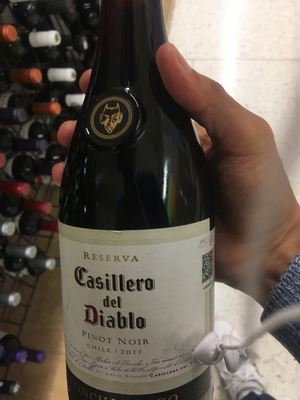casillero del diablo pinot noir: (37, 25, 225, 400)
